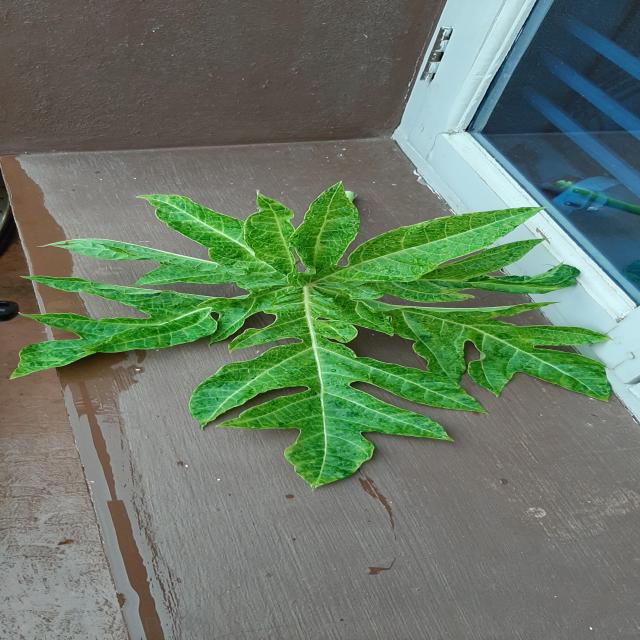papaya: (14, 182, 610, 486)
